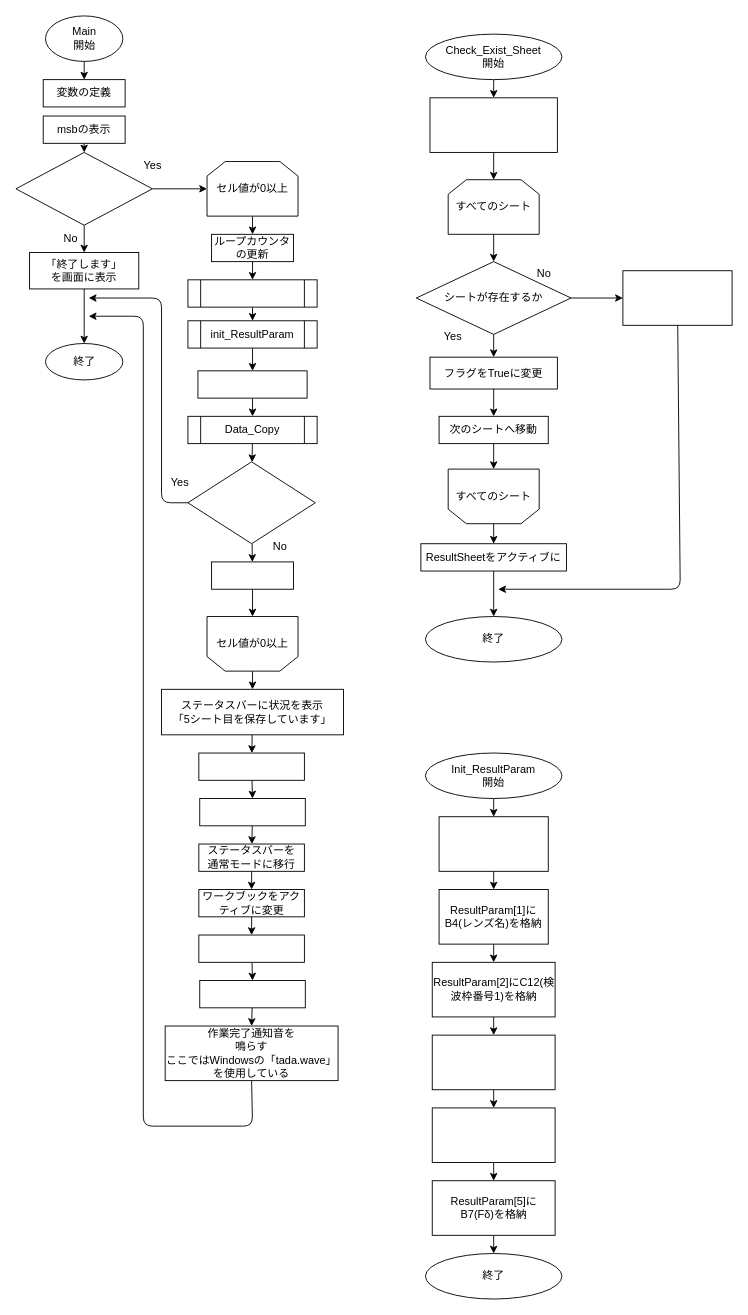
Some shapes in this 748 by 1315 pixel diagram are drawn without their labels. The shapes that lost their labels are listed below. From the top down, each one's box as (x1, y1, x2, y2) in pixels, then its label:
(429, 97, 557, 152): 変数の初期化 ・シート参照用変数 ・Flag変数
(15, 152, 152, 225): グラフ作成を 開始して良いか
(187, 279, 317, 307): Check_Exist_Sheet
(622, 270, 732, 325): msbの画面表示
(197, 370, 307, 398): ステータスバーを 画面に表示
(187, 461, 315, 544): エラーコードが １か
(211, 561, 293, 589): シートのセルを1段下に移動
(198, 752, 304, 780): ワークブックの保存
(199, 798, 305, 826): Excelの更新を有効化
(438, 816, 548, 871): ResultParam[0]にB6(δ)を格納
(198, 934, 304, 962): 現在時刻を保存
(199, 980, 305, 1008): 経過時間を計測 経過時間 - 開始時間
(431, 1034, 555, 1090): ResultParam[3]にC29(検波枠番号2)を格納
(431, 1107, 555, 1163): ResultParam[4]にB5(Fno)を格納
